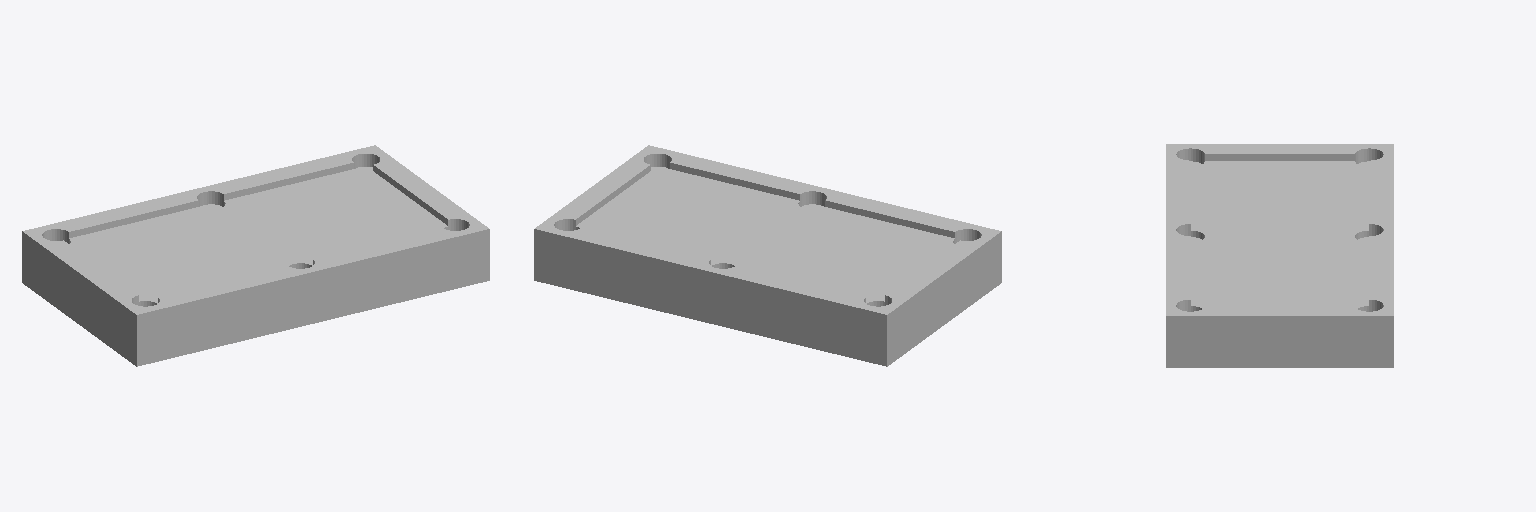
File: Pool_Table.obj
3 renders of one model, left to right at view 1: azimuth 30°, elevation 25°; view 2: azimuth 150°, elevation 25°; view 3: azimuth 270°, elevation 25°, orthographic.
Parts seen in each view (by area): view 1: pCube9; view 2: pCube9; view 3: pCube9.
Part boxes in pixels (bbox=[...]): pCube9: bbox=[22, 145, 489, 366]; pCube9: bbox=[534, 145, 1001, 366]; pCube9: bbox=[1166, 144, 1393, 367].
Bounding box in the file's own units: 114 × 16 × 64.